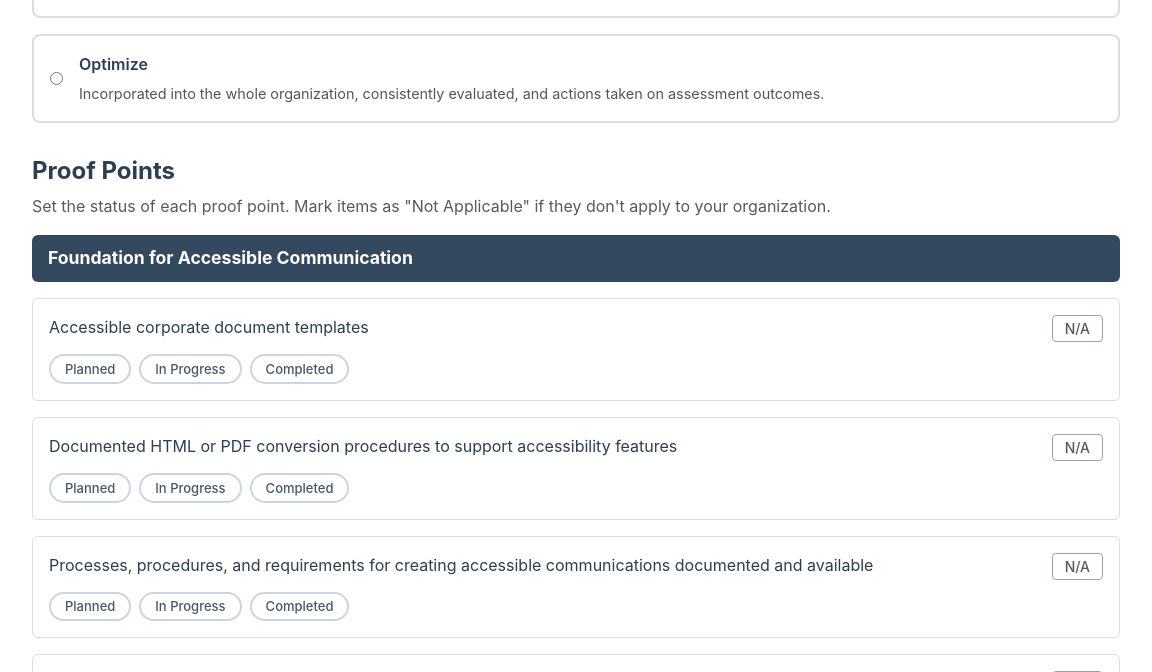
it: DimensionDetail Component - Form Interactions › disables status buttons when marked not applicable
(page scrolled)
Expected: the button with aria-label "mark as in progress" is enabled, 139,354 -> 242,384
Step 1. Click the button titled "mark as not applicable" in the row of "Accessible corporate document templates" → click(1077, 329), box 1052,315 -> 1103,342
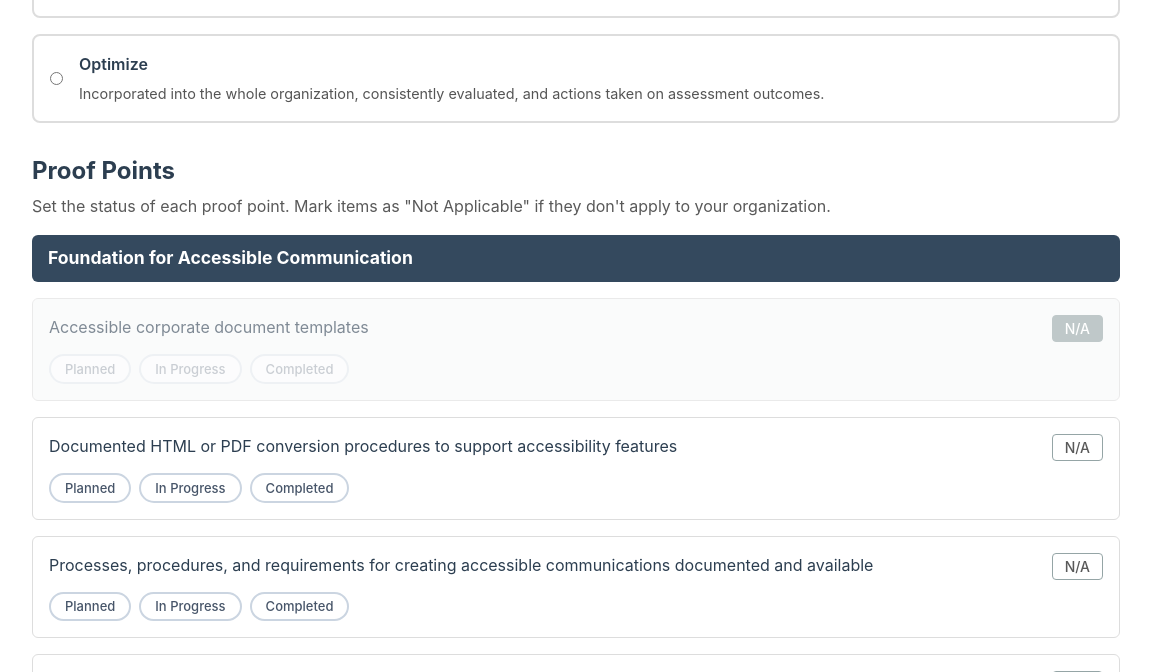
Now the button with aria-label "mark as in progress" is disabled, box 139,354 -> 242,384
